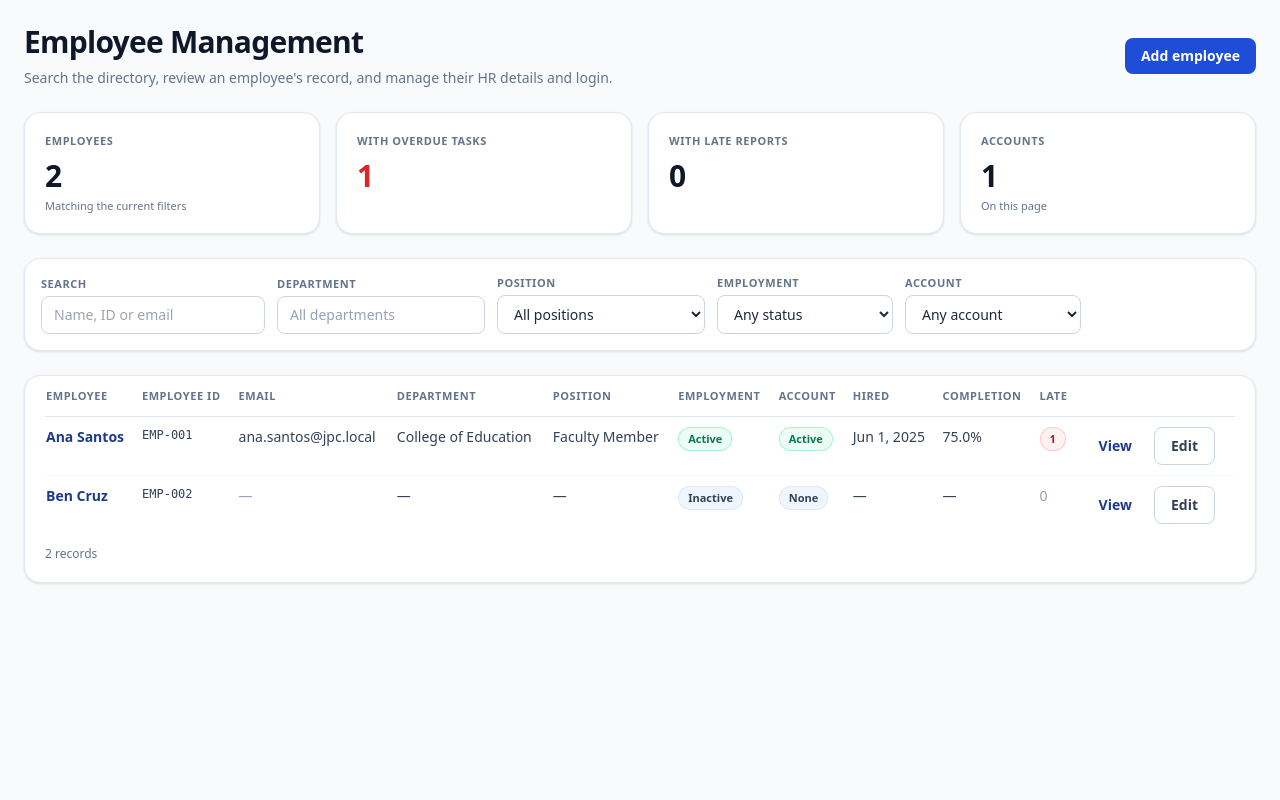
Scenario: EmployeesPage › shows a full record when an employee is selected
Expected: the table is shown, [45, 376, 1235, 534]
Click the button "View" in the row of "EMP-001" at (1115, 446), box [1083, 427, 1148, 465]
(page scrolled)
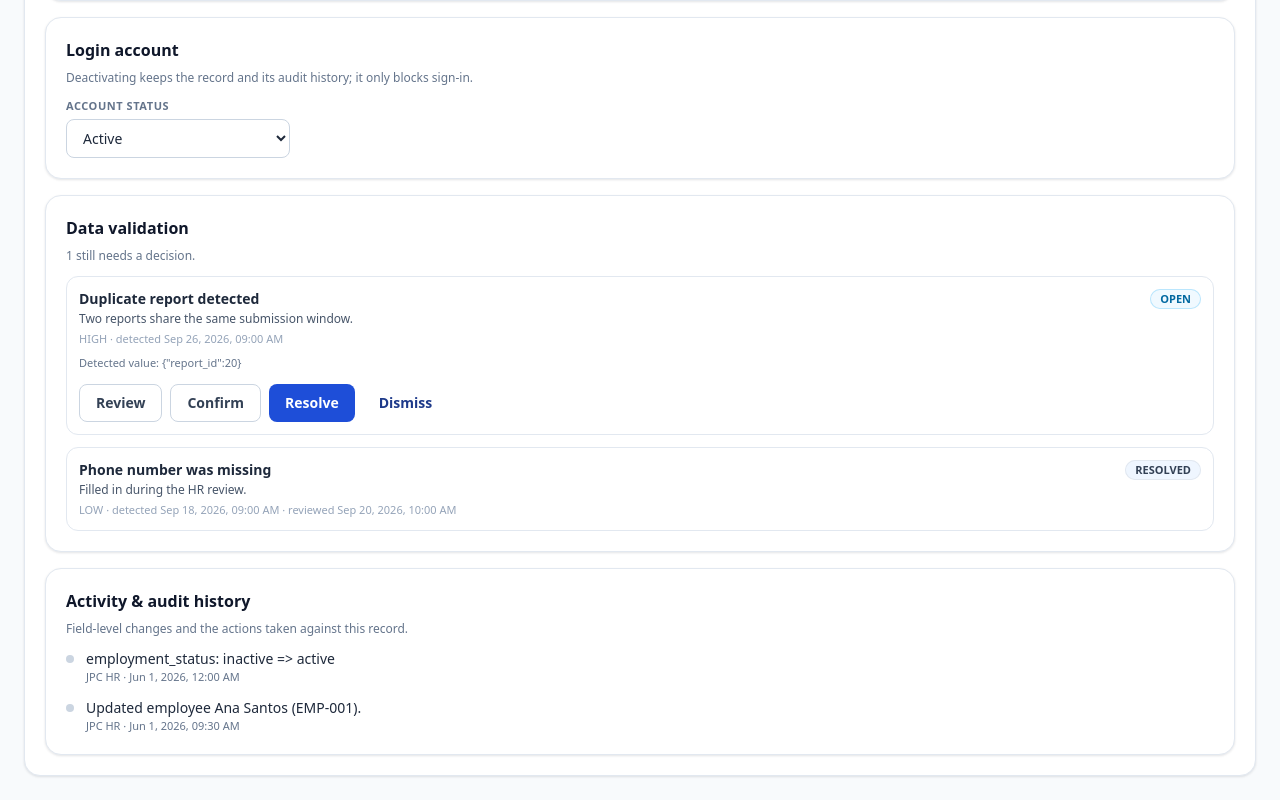
Now the text "Duplicate report detected" is shown, box [79, 289, 260, 308]
Now the text "employment_status: inactive => active" is shown, box [86, 649, 335, 669]
